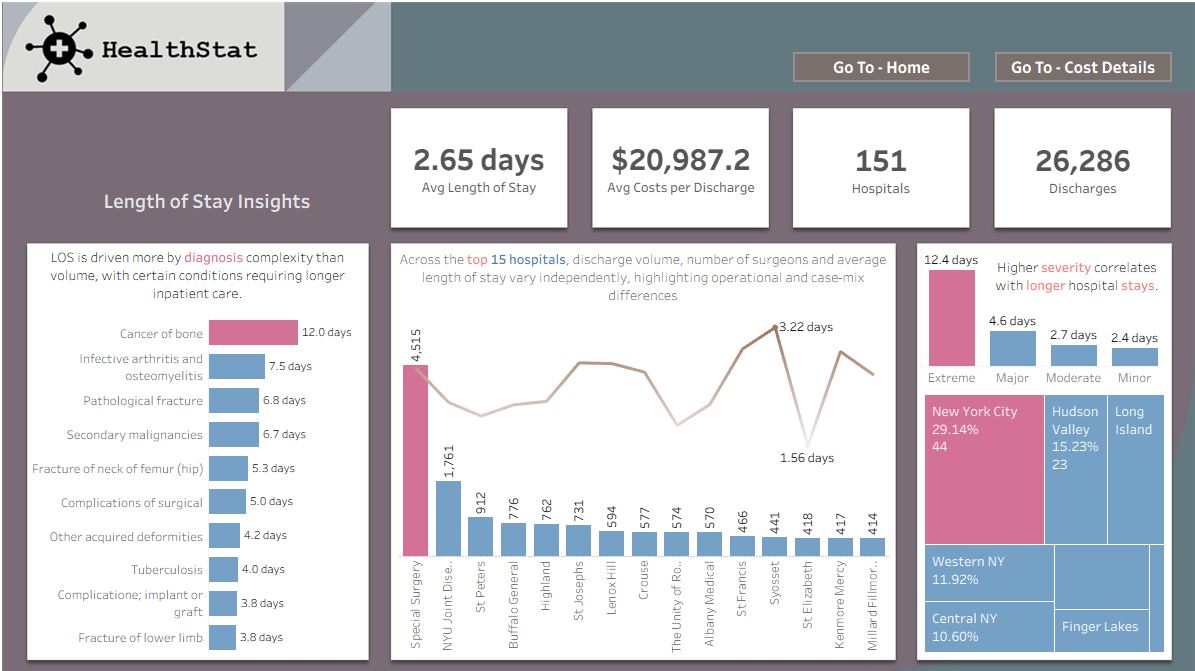

Layout of this report page (visuals, bound fields, positions):
{"tool":"tableau","page":{"name":"LOS Dashboard","canvas":[1200,700],"ordinal":2},"visuals":[{"type":"image","param":"C:/Users/drew_/Desktop/DATA/Data Camp/Data Analyst in Tableau/Learn - Course - P","box":[4,4,1194,690]},{"type":"legend","title":"Hospitals","param":"[federated.0fxm5sd0du2w4c1f8f5pv1r6fbfv].[pcto:ctd:facility_id:qk]","box":[1032,8,160,65]},{"type":"dashboard-object","box":[795,63,177,30]},{"type":"dashboard-object","box":[997,63,177,30]},{"type":"legend","title":"Hospital comparison","param":"[federated.0fxm5sd0du2w4c1f8f5pv1r6fbfv].[__tableau_internal_object_id__].[cnt:p","box":[1032,73,160,65]},{"type":"worksheet","title":"Avg LOS","mark":"Automatic","box":[395,121,172,115]},{"type":"worksheet","title":"Avg Cost Per Discharge","mark":"Automatic","box":[597,121,172,115]},{"type":"worksheet","title":"Total num of hosp","mark":"Automatic","box":[797,122,172,115]},{"type":"worksheet","title":"Total num of discharges","mark":"Automatic","box":[999,122,172,115]},{"type":"legend","title":"Severity by LOS","param":"[federated.0fxm5sd0du2w4c1f8f5pv1r6fbfv].[avg:length_of_stay:qk]","box":[1032,138,160,65]},{"type":"text","box":[77,191,264,40]},{"type":"worksheet","title":"Severity by LOS","mark":"Automatic","rows":["length_of_stay"],"cols":["apr_severity_of_illness_description"],"box":[920,256,250,145]},{"type":"text","box":[31,257,337,57]},{"type":"text","box":[396,257,498,62]},{"type":"text","box":[988,257,182,59]},{"type":"worksheet","title":"Hospital comparison","mark":"Line","rows":["patients.csv_A7DF0EEE012E47A19C25EFE06A26522E","length_of_stay"],"cols":["facility_name"],"box":[396,320,500,350]},{"type":"worksheet","title":"Diagnosis","mark":"Automatic","rows":["ccs_diagnosis_description"],"cols":["length_of_stay"],"box":[29,322,339,348]},{"type":"worksheet","title":"Hospitals","mark":"Automatic","box":[919,398,254,272]}]}

Visuals, with their boxes on the page's 1200x700 design canvas (x1, y1, x2, y2). These are canvas units, not pixel positions in the 1195x671 screenshot, which may show the page scaled, cropped or inside an application window:
image: (left=4, top=4, right=1198, bottom=694)
"Hospitals" legend: (left=1032, top=8, right=1192, bottom=73)
dashboard-object: (left=795, top=63, right=972, bottom=93)
dashboard-object: (left=997, top=63, right=1174, bottom=93)
"Hospital comparison" legend: (left=1032, top=73, right=1192, bottom=138)
"Avg LOS" worksheet: (left=395, top=121, right=567, bottom=236)
"Avg Cost Per Discharge" worksheet: (left=597, top=121, right=769, bottom=236)
"Total num of hosp" worksheet: (left=797, top=122, right=969, bottom=237)
"Total num of discharges" worksheet: (left=999, top=122, right=1171, bottom=237)
"Severity by LOS" legend: (left=1032, top=138, right=1192, bottom=203)
text: (left=77, top=191, right=341, bottom=231)
"Severity by LOS" worksheet: (left=920, top=256, right=1170, bottom=401)
text: (left=31, top=257, right=368, bottom=314)
text: (left=396, top=257, right=894, bottom=319)
text: (left=988, top=257, right=1170, bottom=316)
"Hospital comparison" worksheet (Line marks): (left=396, top=320, right=896, bottom=670)
"Diagnosis" worksheet: (left=29, top=322, right=368, bottom=670)
"Hospitals" worksheet: (left=919, top=398, right=1173, bottom=670)
